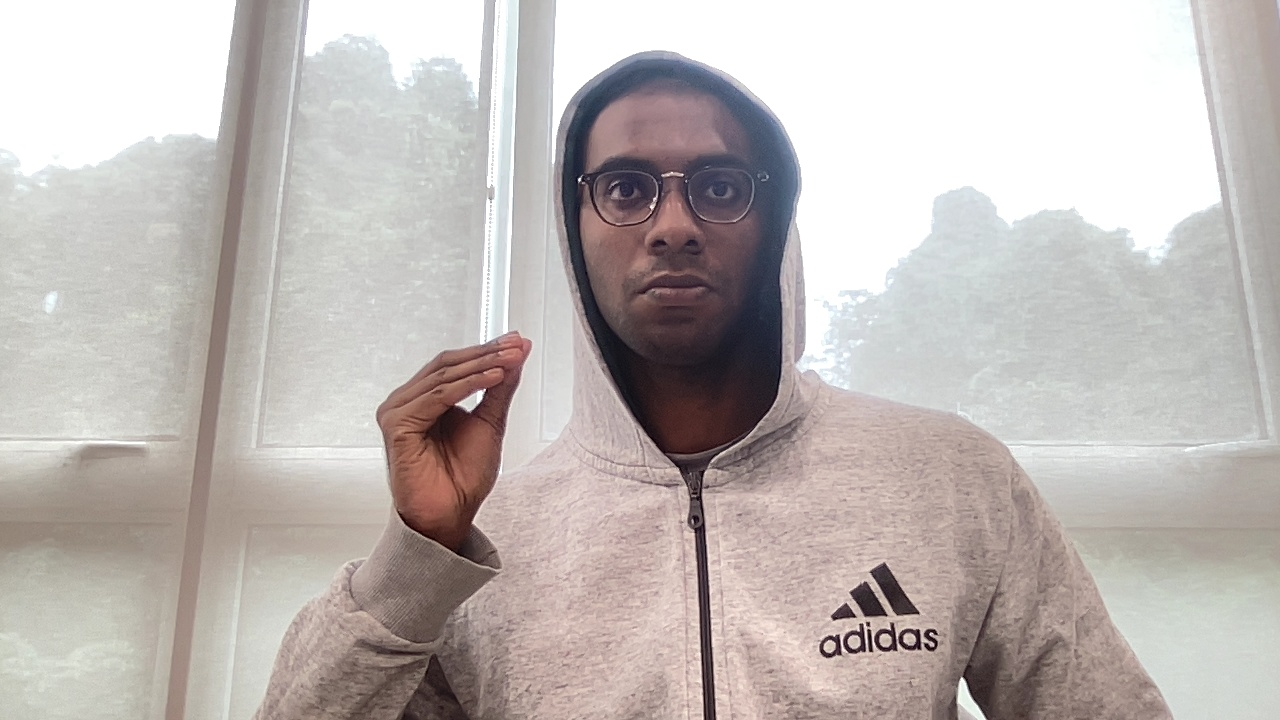eat: (371, 327, 540, 526)
